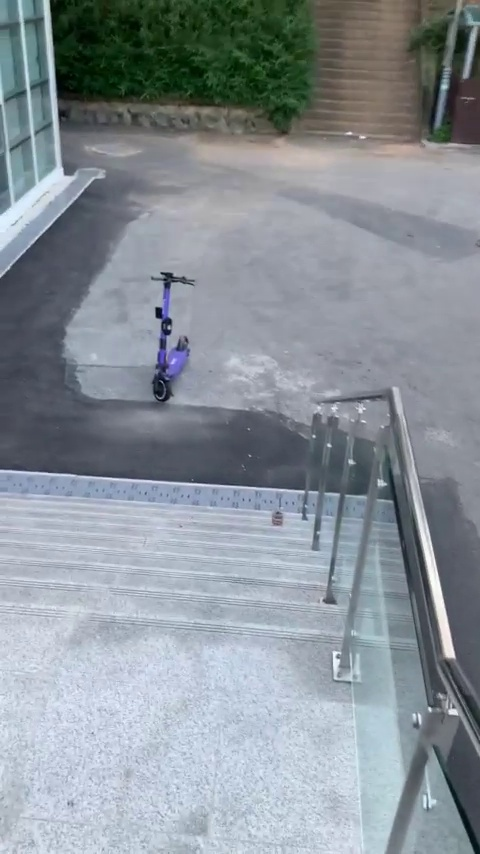beam: (135, 261, 215, 407)
